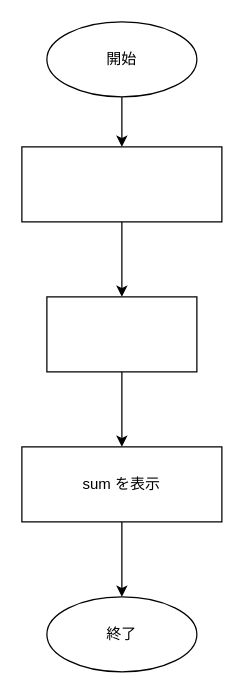
Some shapes in this 244 by 694 pixel diagram are drawn without their labels. Here are the shapes that lost their labels. From the top down, the centre of each, then its label:
point 121,184: a と b を入力
point 121,334: sum = a + b
